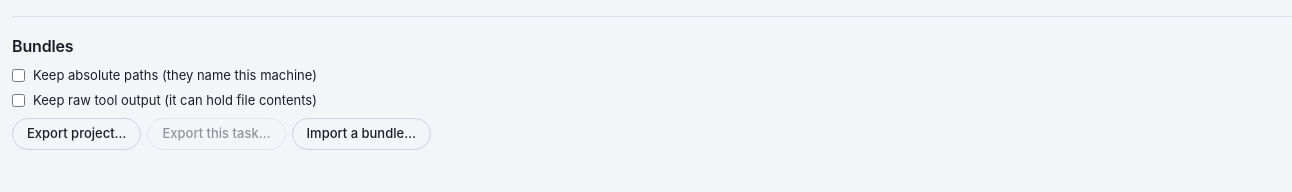
Test: the Bundles panel › exports the project without paths or raw output unless asked, and says what it left out
Expected: the button "Export this task…" is disabled, [148,118,286,150]
Click the button "Export project…" at (77, 134), box [12,118,142,150]
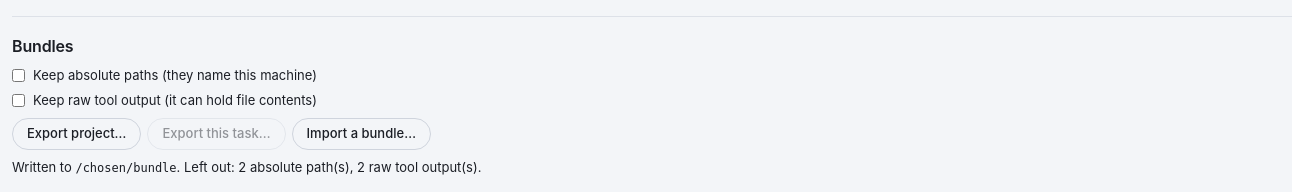
Expected: the message does not show "secret", [12,159,481,175]
Expected: the message shows "/chosen/bundle", [75,161,177,175]
Expected: the message shows "Left out: 2 absolute path(s), 2 raw tool output(s).", [184,159,481,175]
